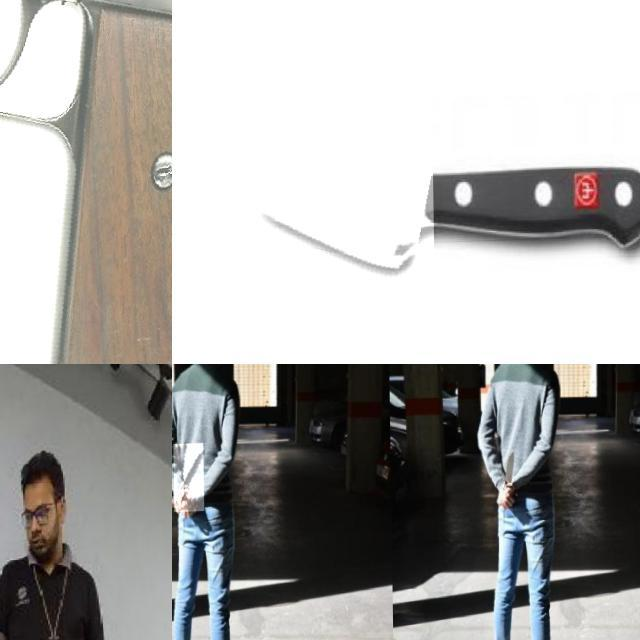-: (175, 50, 435, 364), (173, 444, 204, 512), (500, 450, 516, 497)
gun-knife-thesis - v11 Yolov5 augmented: (0, 0, 172, 364)
